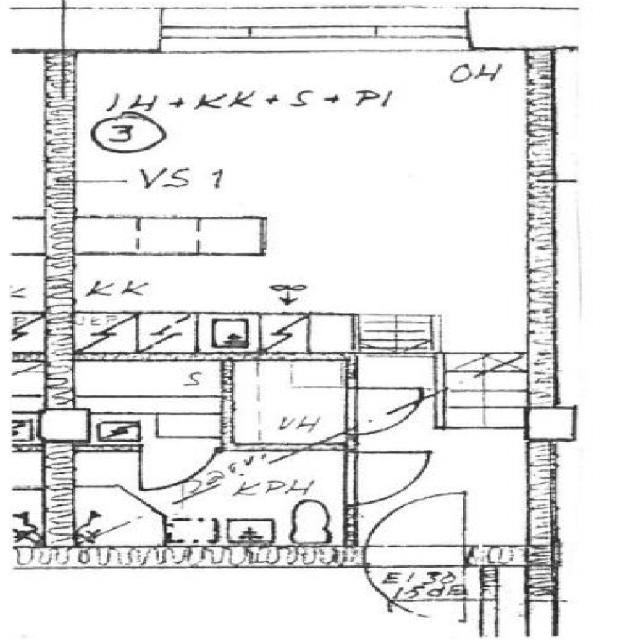door: (365, 544, 464, 630), (365, 481, 464, 565), (344, 452, 440, 505), (140, 444, 215, 498), (344, 388, 428, 434)
